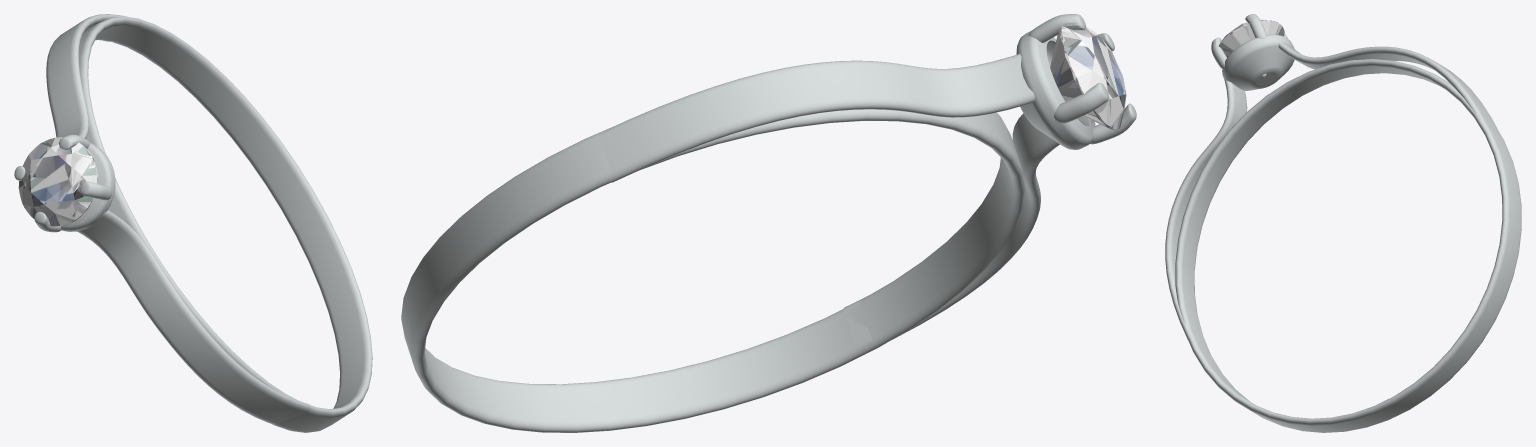
The picture shows the model from 3 angles, left to right: view 1: azimuth 30°, elevation 25°; view 2: azimuth 150°, elevation 25°; view 3: azimuth 270°, elevation 25°; orthographic projection. The views are drawn at different scales.
Visible parts, largest first — view 1: Cube.002, Round brilliant_1ct; view 2: Cube.002, Round brilliant_1ct; view 3: Cube.002, Round brilliant_1ct.
Boxes of the visible parts, x1,y1,x2,y2 form: Cube.002: [14, 14, 372, 432]; Round brilliant_1ct: [18, 137, 97, 226]; Cube.002: [401, 14, 1136, 432]; Round brilliant_1ct: [1050, 26, 1126, 130]; Cube.002: [1165, 14, 1521, 432]; Round brilliant_1ct: [1219, 19, 1284, 57].
Size of the model in its own units: 2.08 by 1.76 by 1.89.
2 materials, 1 textured.
